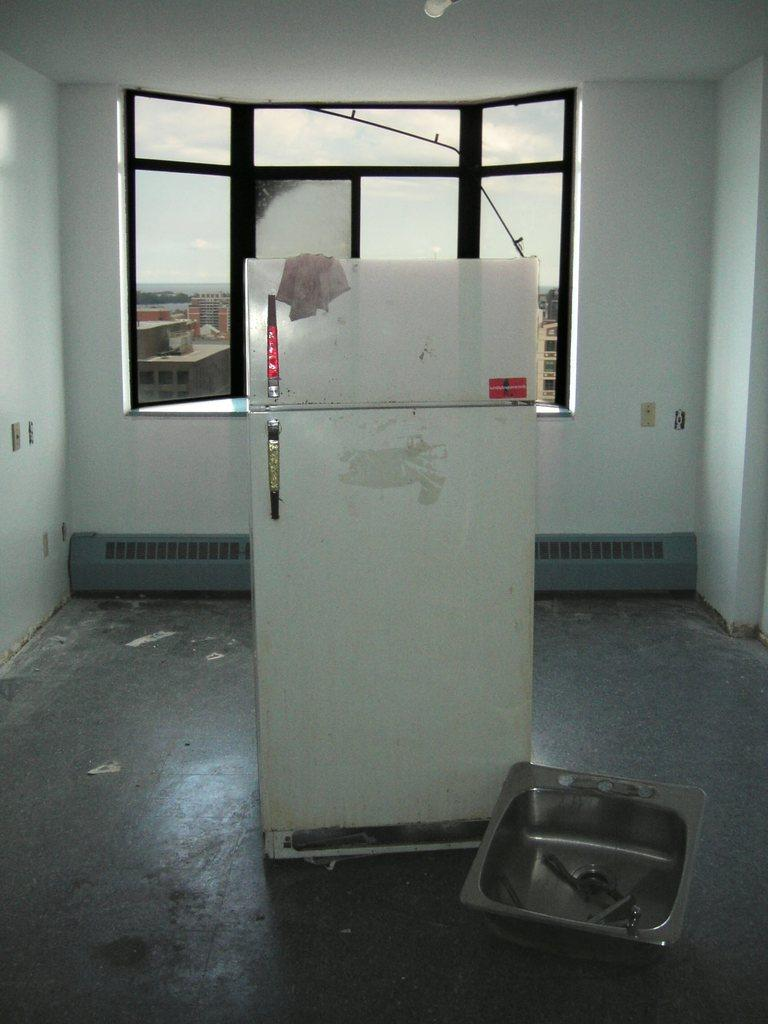handle: (262, 414, 280, 538), (263, 290, 282, 391)
